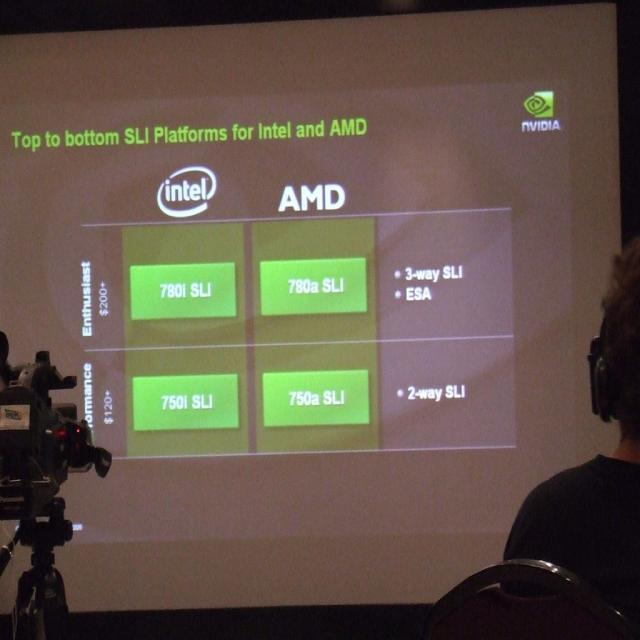nvidia: (523, 92, 554, 119)
